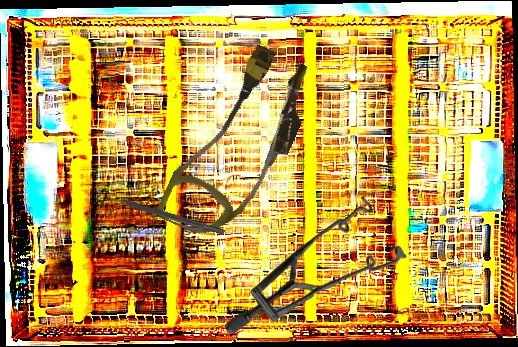Cannula: (154, 34, 324, 255)
Fixation Ring: (96, 186, 228, 243)
Speculum: (225, 197, 407, 334)
